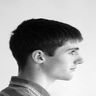ear: (28, 43, 51, 69)
